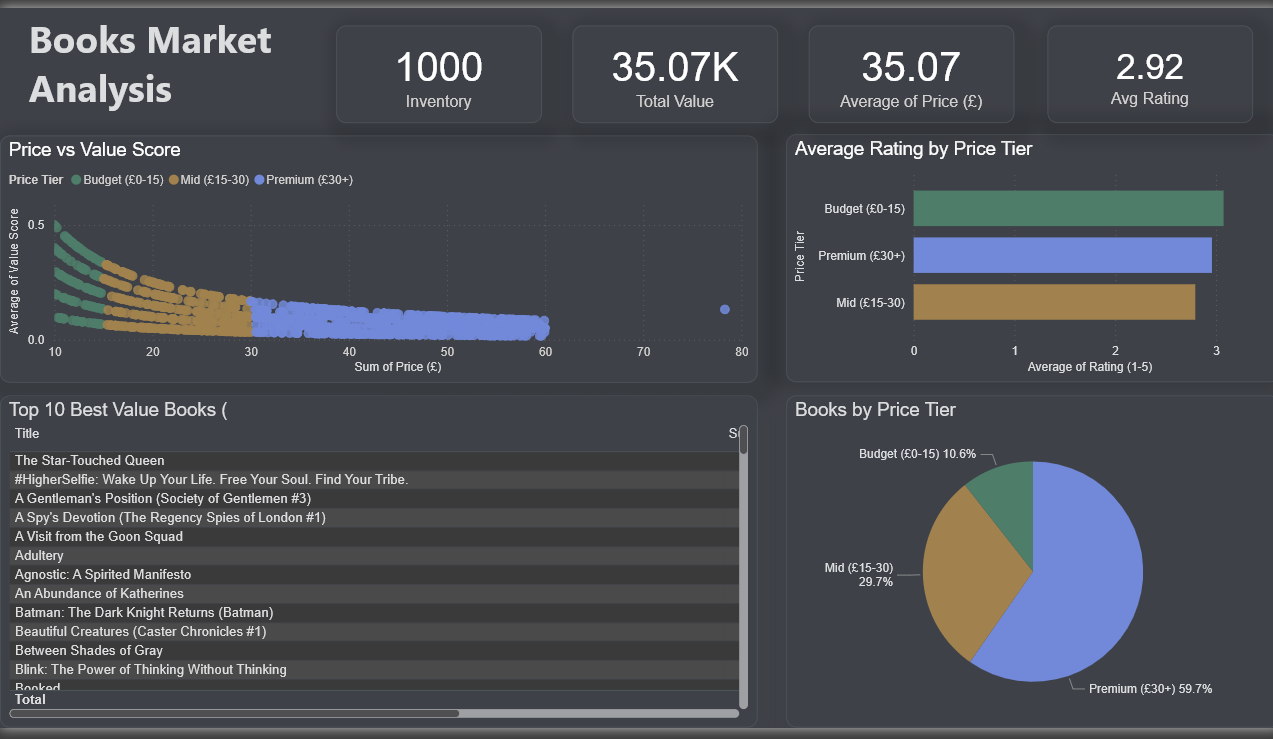

This screenshot's page, from the dashboard's own definition file:
{"tool":"powerbi","page":{"name":"Page 1","canvas":[1280,720],"ordinal":0},"visuals":[{"type":"pieChart","title":"Books by Price Tier","fields":{"Category":["Clean Data.Price Tier"],"Y":["CountNonNull(Clean Data.Book ID)"]},"box":[786.4,387.9,493.9,331.8],"z":0},{"type":"clusteredBarChart","title":"Average Rating by Price Tier ","fields":{"Category":["Clean Data.Price Tier"],"Y":["Avg(Clean Data.Rating (1-5))"]},"box":[786.7,126.7,493.3,248],"z":1000},{"type":"scatterChart","title":"Price vs Value Score","fields":{"X":["Sum(Clean Data.Price (£))"],"Y":["Avg(Clean Data.Value Score)"],"Series":["Clean Data.Price Tier"],"Category":["Clean Data.Title"]},"box":[0,127.3,757.6,247],"z":2000},{"type":"tableEx","title":"Top 10 Best Value Books (","fields":{"Values":["Clean Data.Title","Sum(Clean Data.Price (£))","Sum(Clean Data.Rating (1-5))","Sum(Clean Data.Value Score)","Clean Data.Price Tier"]},"box":[0,387.9,757.6,331.8],"z":3000},{"type":"card","fields":{"Values":["CountNonNull(Clean Data.Book ID)"]},"box":[336,17.3,205.3,97.3],"z":4000},{"type":"card","fields":{"Values":["Avg(Clean Data.Rating (1-5))"]},"box":[1048,17.3,205.3,97.3],"z":5000},{"type":"card","fields":{"Values":["Avg(Clean Data.Price (£))"]},"box":[809.3,17.3,205.3,97.3],"z":6000},{"type":"card","fields":{"Values":["Sum(Clean Data.Price (£))"]},"box":[572,17.3,205.3,97.3],"z":7000},{"type":"textbox","box":[24,0,434.7,114.7],"z":8000}]}

Visuals, with their boxes on the page's 1280x720 design canvas (x1, y1, x2, y2). These are canvas units, not pixel positions in the 1273x739 screenshot, which may show the page scaled, cropped or inside an application window:
"Books by Price Tier" pieChart: 786 388 1280 720
"Average Rating by Price Tier " clusteredBarChart: 787 127 1280 375
"Price vs Value Score" scatterChart: 0 127 758 374
"Top 10 Best Value Books (" tableEx: 0 388 758 720
card - CountNonNull(Clean Data.Book ID): 336 17 541 115
card - Avg(Clean Data.Rating (1-5)): 1048 17 1253 115
card - Avg(Clean Data.Price (£)): 809 17 1015 115
card - Sum(Clean Data.Price (£)): 572 17 777 115
textbox: 24 0 459 115
